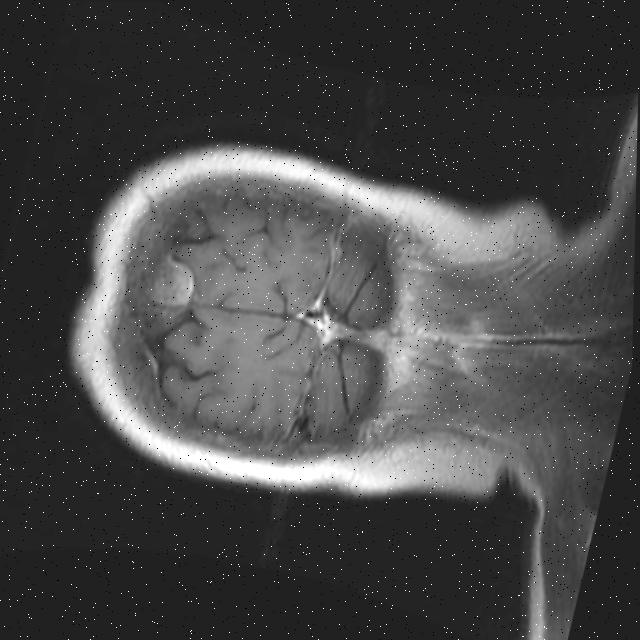Meningioma: (140, 246, 202, 312)
